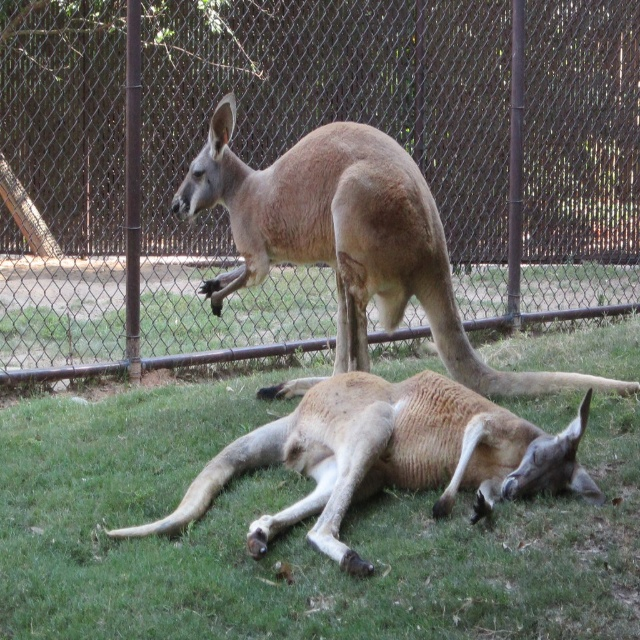Kangaroo: (171, 92, 640, 401), (102, 370, 606, 576)
